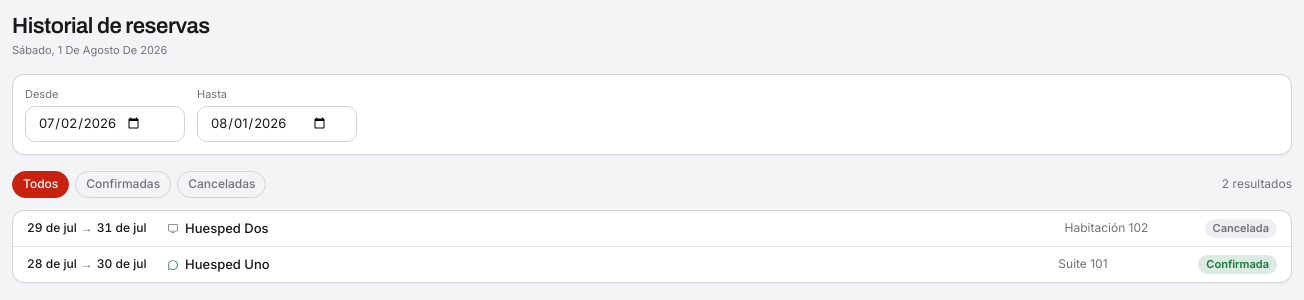
TabHistorialServicios — hotel (reservas) › el chip Canceladas deja solo la reserva cancelada
The image size is (1304, 300).
Check: the text "Huesped Uno" is shown, box [185, 255, 270, 274]
Click the button "Canceladas". click: (222, 184)
box: [177, 171, 266, 198]
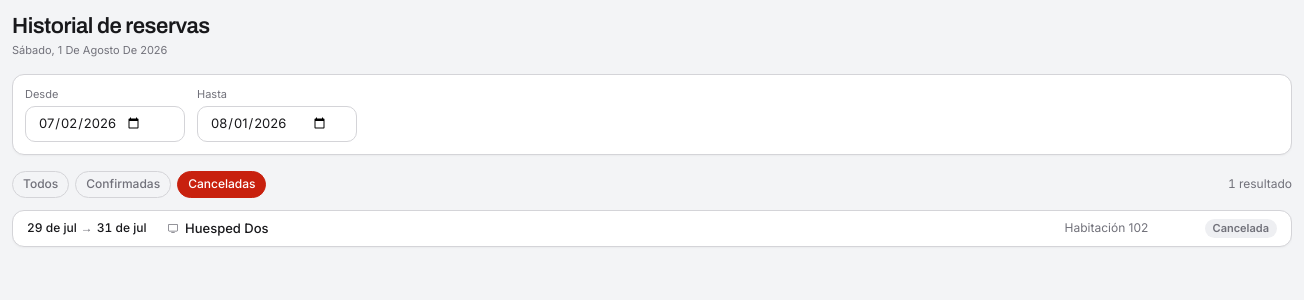
Check: the text "Huesped Dos" is shown, box [185, 219, 269, 238]
Check: the text "Huesped Uno" is gone
